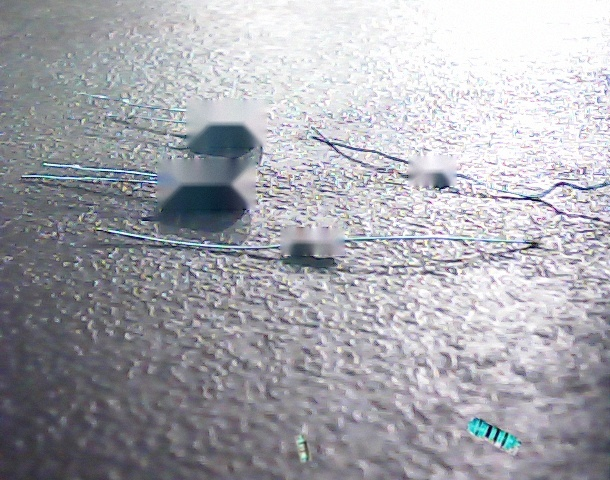resistor: (465, 415, 522, 456), (295, 434, 312, 463)
